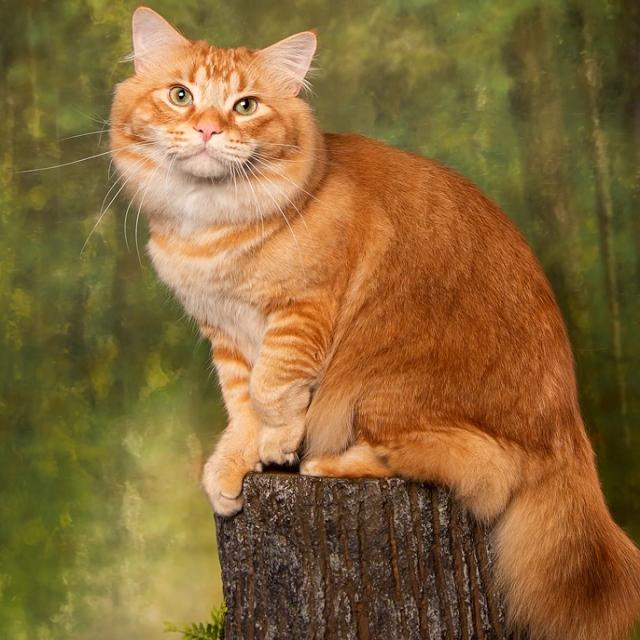American Bobtail: (103, 2, 640, 640)
